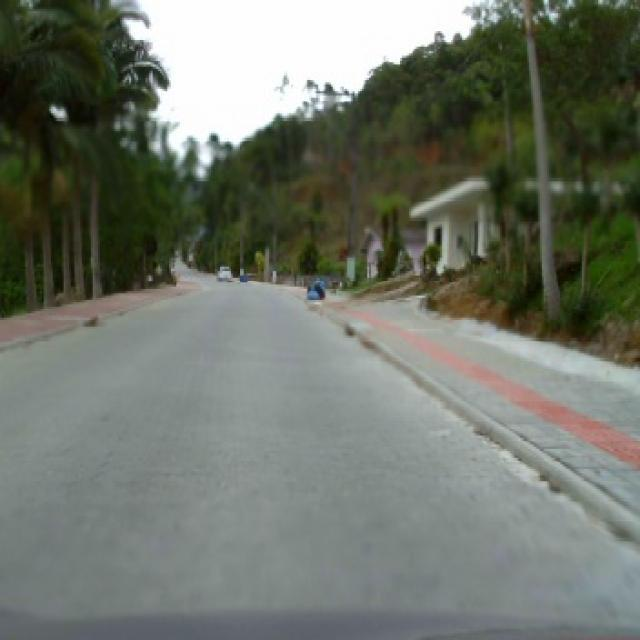Poth-hole: (78, 316, 98, 326), (342, 322, 353, 336)
